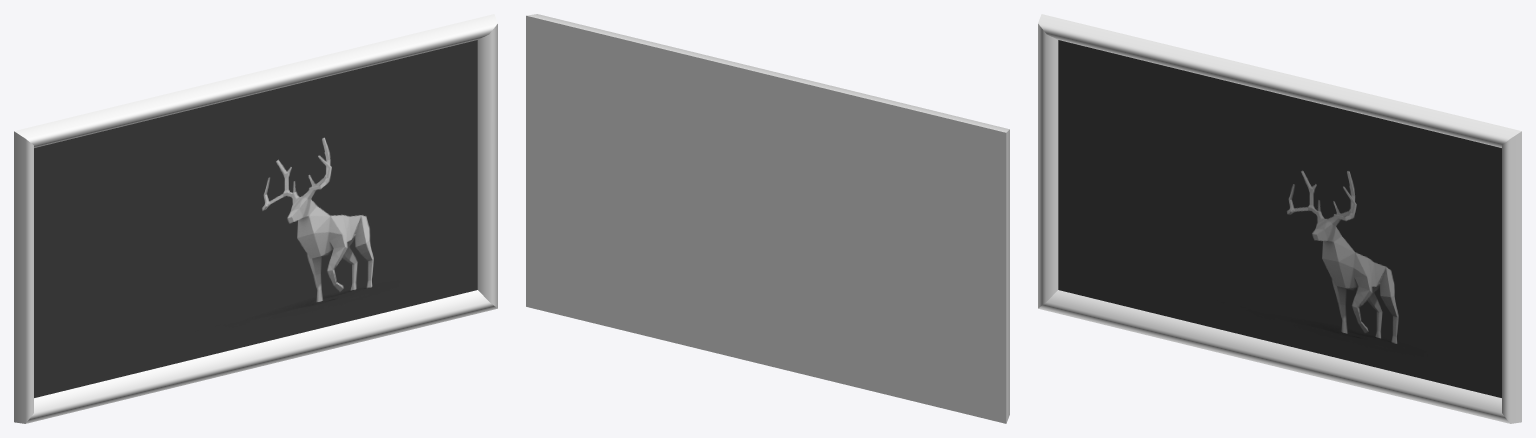
File: picture_009.fbx
3 views of the same model, side by side, from view 1: azimuth 30°, elevation 25°; view 2: azimuth 150°, elevation 25°; view 3: azimuth 330°, elevation 25° (orthographic).
Parts seen in each view (by area): view 1: picture_009; view 2: picture_009; view 3: picture_009.
Boxes of the visible parts, x1,y1,x2,y2 form: picture_009: (14, 14, 497, 423); picture_009: (526, 14, 1009, 423); picture_009: (1038, 14, 1521, 423).
Bounding box in the file's own units: 137 × 3.71 × 79.31.
